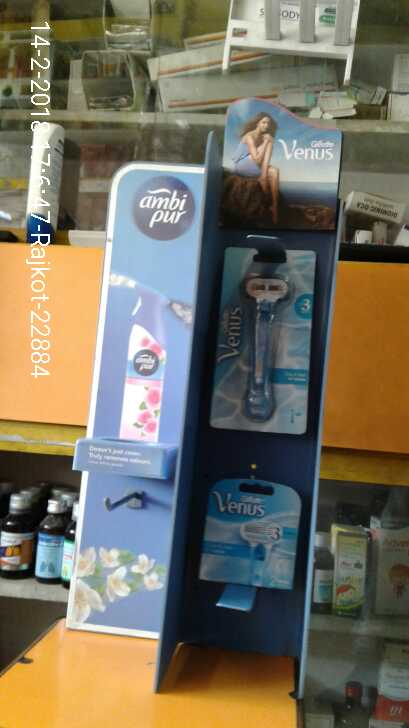venus: (209, 242, 317, 436), (199, 476, 303, 589)
